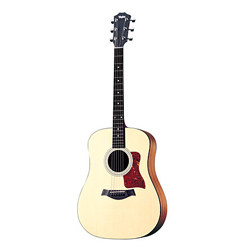guitar: (74, 10, 168, 240)
